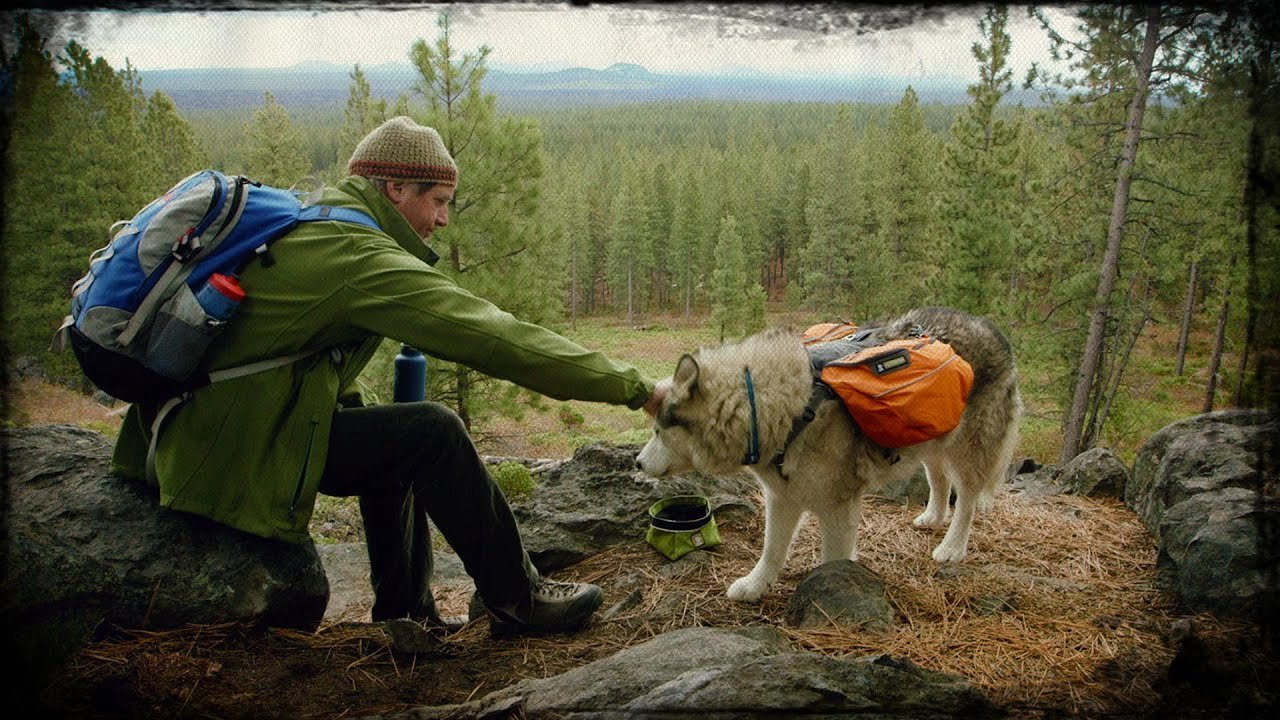dog: (621, 267, 1042, 589)
